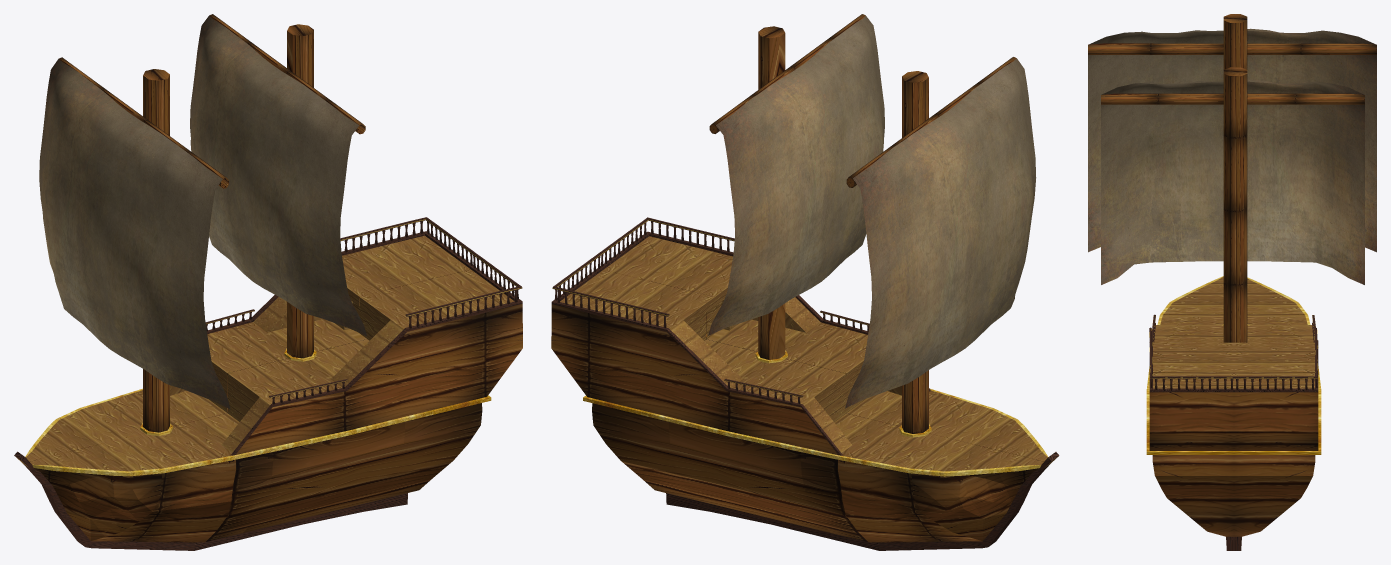
Rendered from Bateau 1.fbx.
3 views of the same model, side by side, from view 1: azimuth 30°, elevation 25°; view 2: azimuth 150°, elevation 25°; view 3: azimuth 270°, elevation 25° (orthographic). The views are drawn at different scales.
Visible parts, largest first — view 1: polySurface48; view 2: polySurface48; view 3: polySurface48.
Part boxes in pixels (x1,y1,x2,y2): polySurface48: (14,14,522,550); polySurface48: (551,14,1059,550); polySurface48: (1088,14,1376,550).
Bounding box in the file's own units: 8.76 × 9.08 × 5.46.
Materials: 10 (9 with a texture image).
